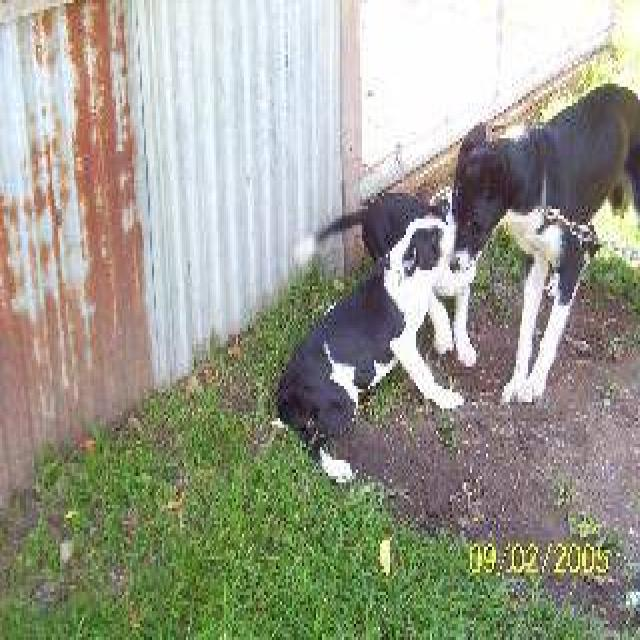dog: (448, 80, 638, 402), (268, 193, 472, 482)
